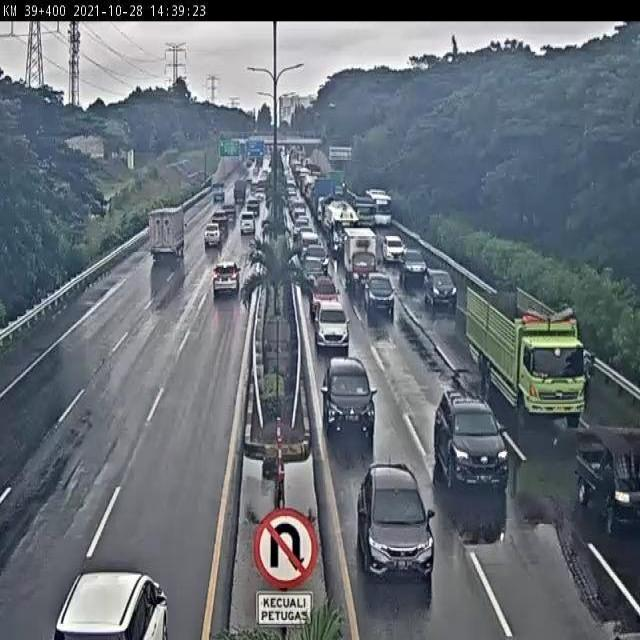car: (355, 461, 434, 576), (433, 393, 506, 488), (320, 357, 377, 435), (314, 301, 348, 348), (424, 271, 458, 308), (309, 274, 339, 314), (364, 275, 394, 312), (211, 259, 242, 293), (397, 249, 425, 280), (302, 244, 329, 271), (302, 257, 324, 288), (203, 224, 220, 249)
mid truck: (460, 285, 586, 428), (148, 210, 187, 262)
small truck: (575, 426, 640, 530), (344, 225, 378, 284)
